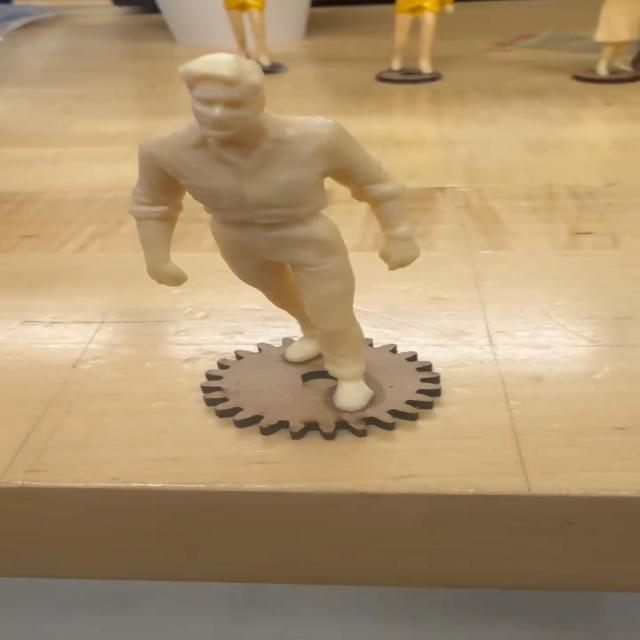Unauthorized: (105, 53, 435, 415)
